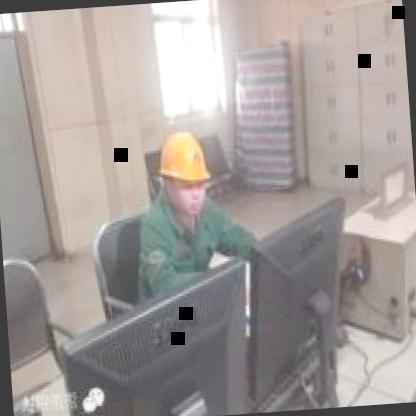helmet: (155, 124, 217, 220)
